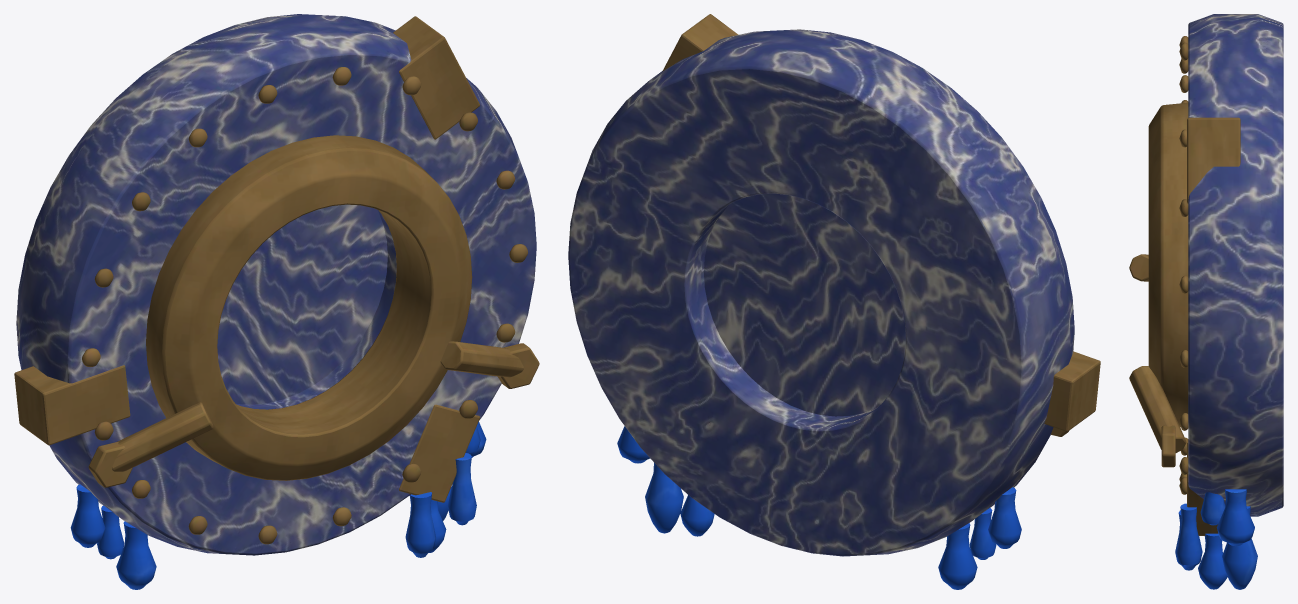
Rendered from porthole.glb.
The picture shows the model from 3 angles, left to right: view 1: azimuth 30°, elevation 25°; view 2: azimuth 150°, elevation 25°; view 3: azimuth 270°, elevation 25°; orthographic projection. The views are drawn at different scales.
Visible parts, largest first — view 1: porthole; view 2: porthole; view 3: porthole.
Boxes of the visible parts, x1,y1,x2,y2 form: porthole: (14, 14, 539, 589); porthole: (568, 14, 1100, 589); porthole: (1129, 14, 1283, 589).
Size of the model in its own units: 0.5974 by 0.62 by 0.177.
Materials: 1 (1 with a texture image).
